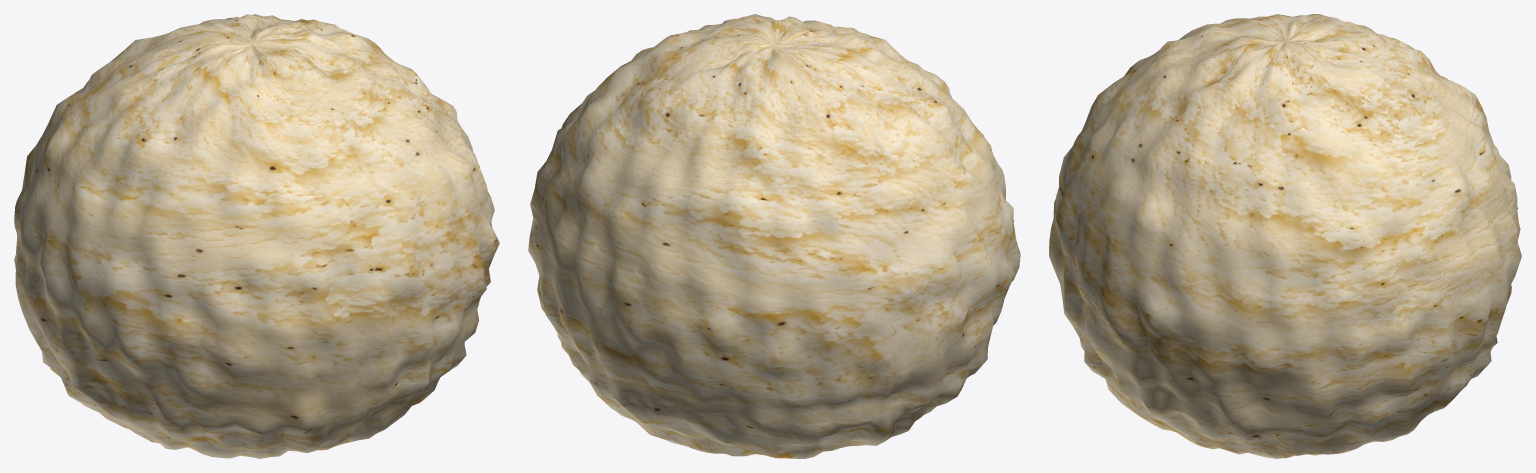
Rendered from sweet-icecream-vanilla.glb.
The picture shows the model from 3 angles, left to right: view 1: azimuth 30°, elevation 25°; view 2: azimuth 150°, elevation 25°; view 3: azimuth 270°, elevation 25°; orthographic projection.
Visible parts, largest first — view 1: Hand scooped vanilla; view 2: Hand scooped vanilla; view 3: Hand scooped vanilla.
Part boxes in pixels (x1,y1,x2,y2): Hand scooped vanilla: (14, 14, 499, 458); Hand scooped vanilla: (528, 14, 1020, 458); Hand scooped vanilla: (1049, 14, 1521, 458).
Size of the model in its own units: 1.06 by 0.8515 by 1.02.
1 material, 1 textured.
